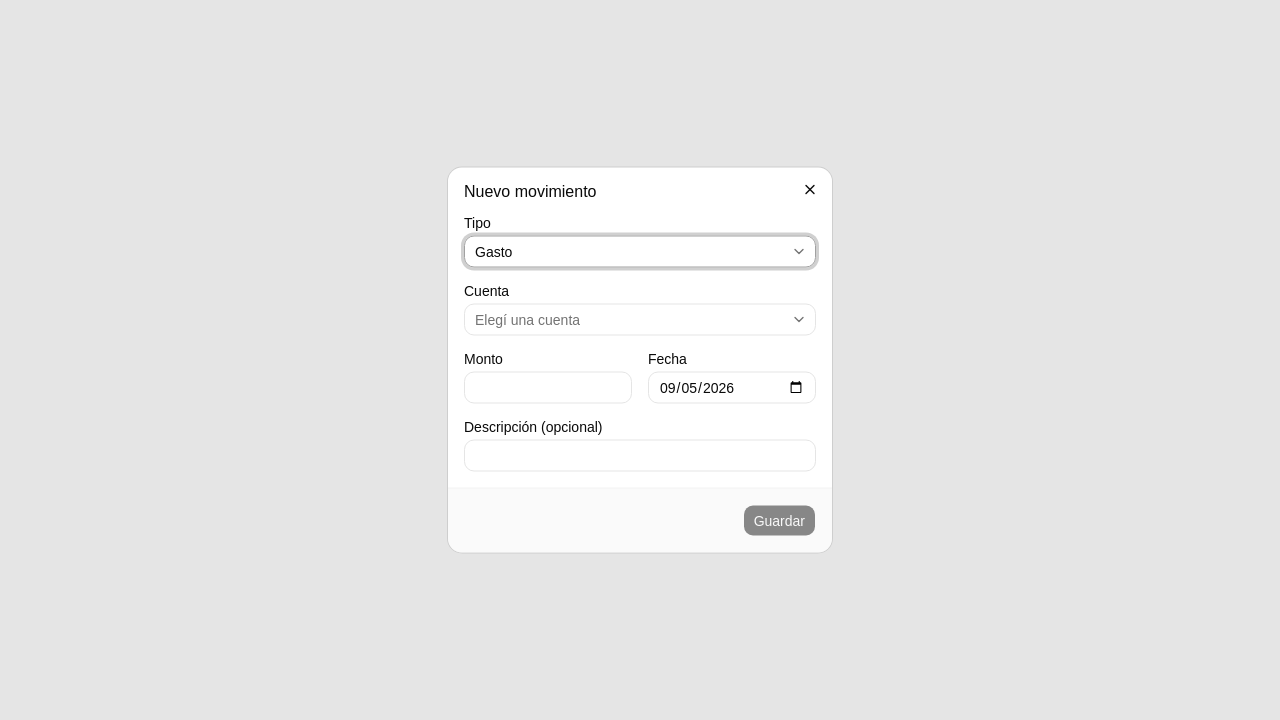
TransactionFormDialog › shows the card selector for an expense on an account that has cards
The image size is (1280, 720).
What coordinates should you click on to do the following:
click the dropdown labelled "Elegí una cuenta"
I would click on:
 (528, 320)
Its box is [464,304,816,336].
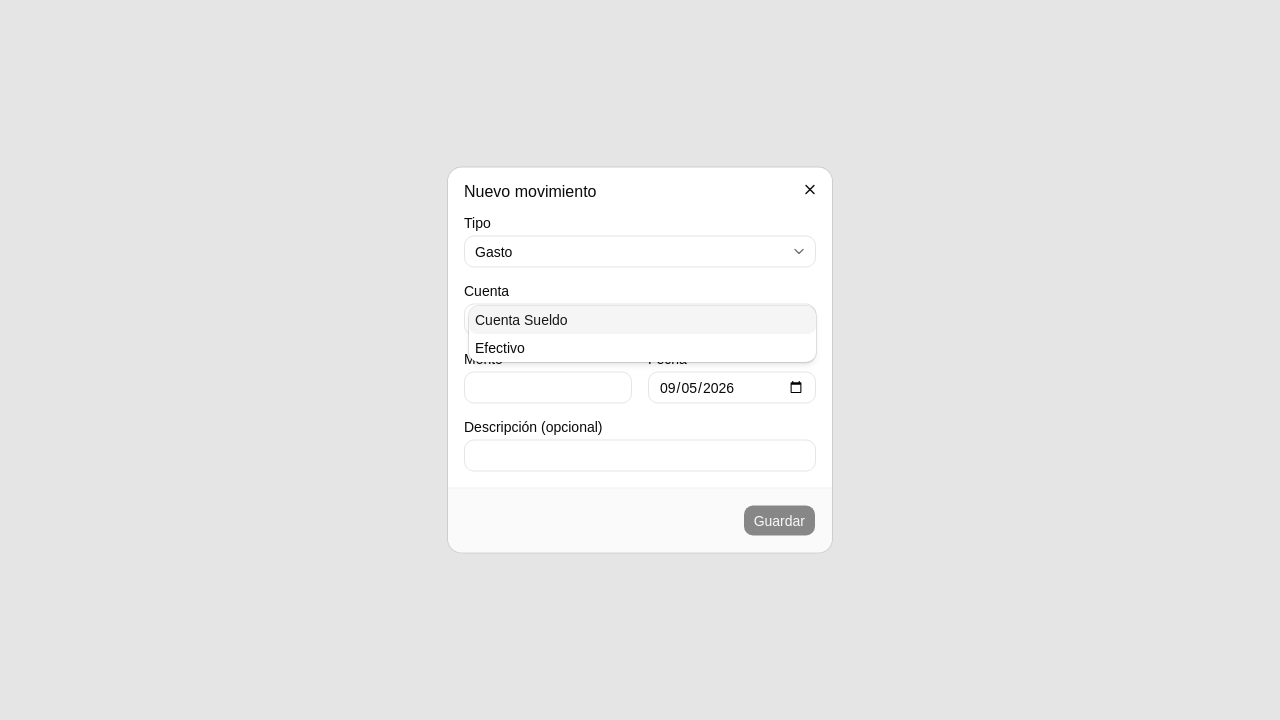
What coordinates should you click on to do the following:
click the option "Cuenta Sueldo"
I would click on:
 (521, 320)
Its box is [469,306,816,334].
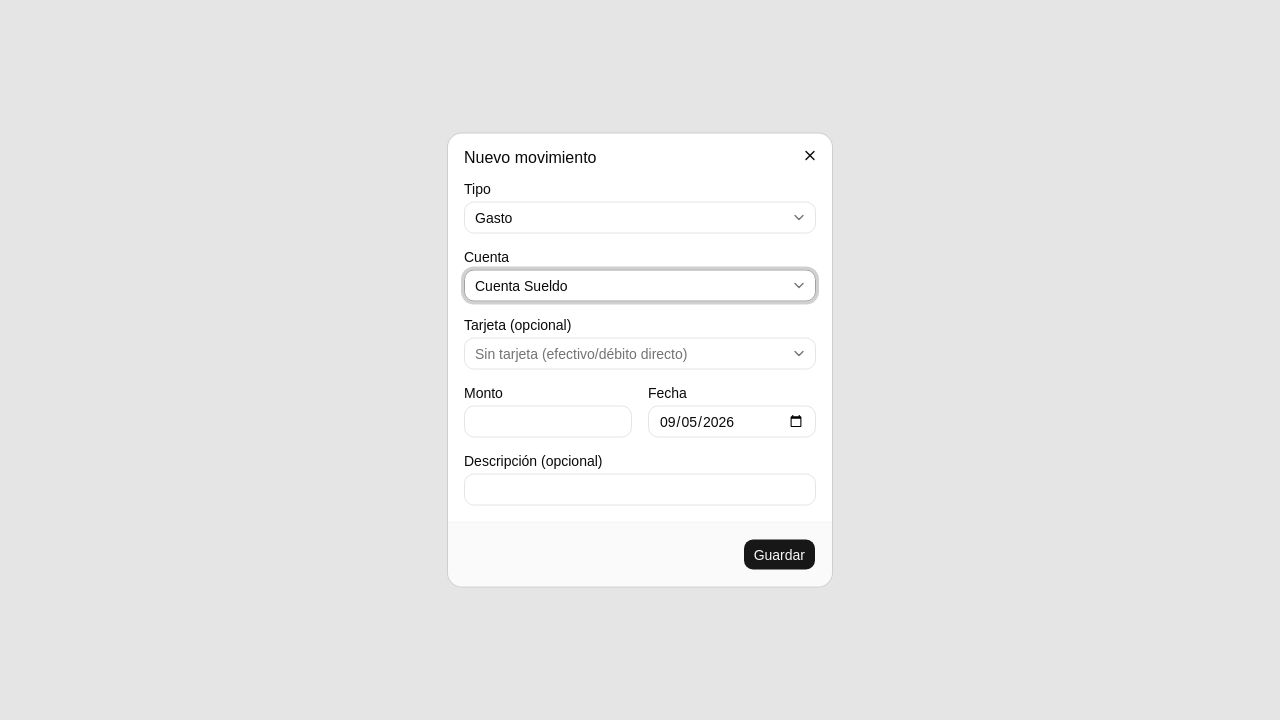
Expected: the dropdown named "Tarjeta (opcional)" is shown, [464,338,816,370]
